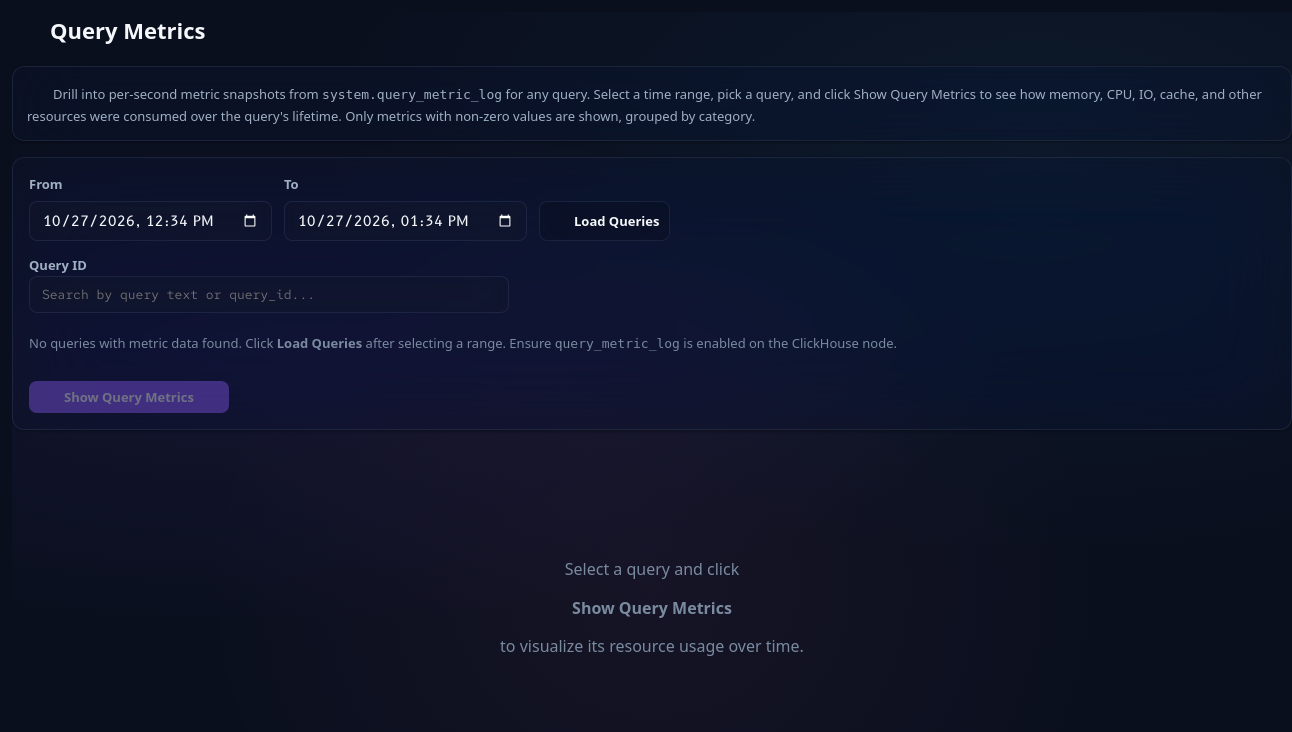
Test: QueryMetrics Component › shows range validation error when invalid
The image size is (1292, 732).
Replace the text in the 1st field with "2026-07-17T11:00": (150, 221) [29, 201, 272, 241]
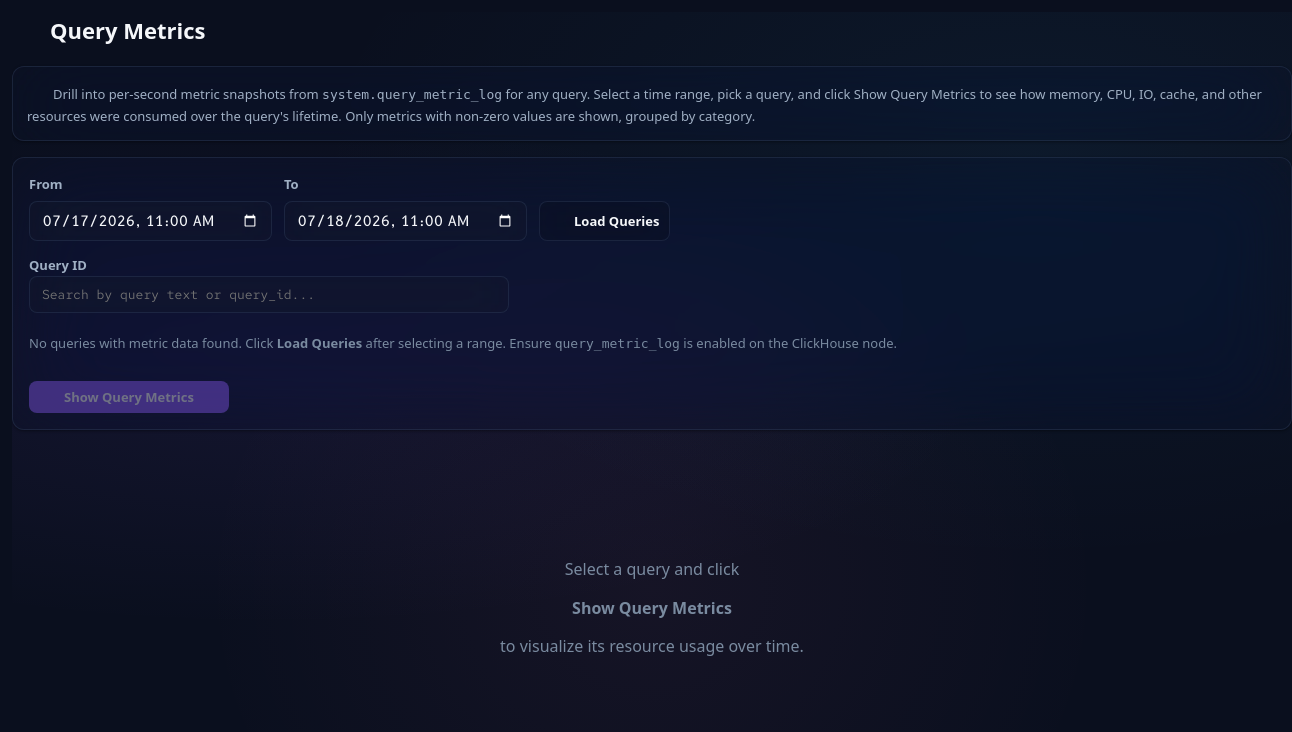
Replace the text in the 2nd field with "2026-07-16T10:00": (406, 221) [284, 201, 527, 241]
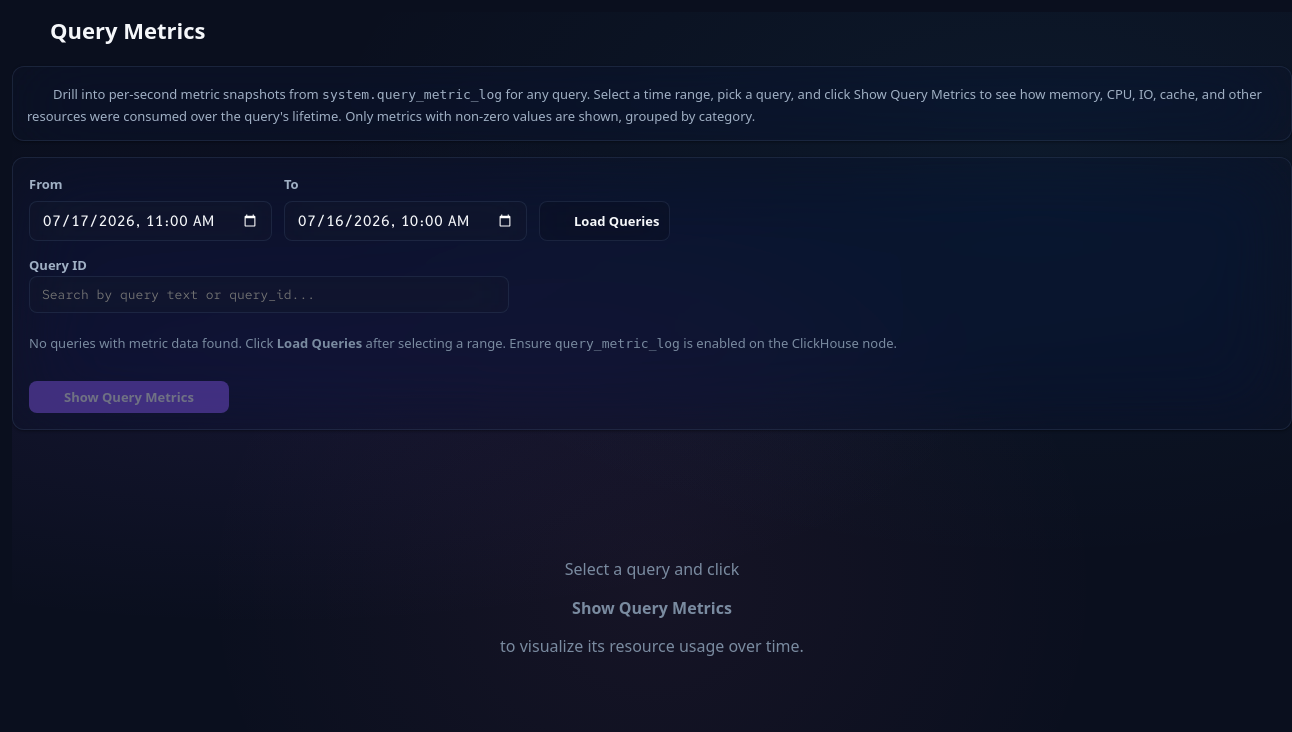
Click the button "Load Queries": (605, 221) [539, 201, 670, 241]
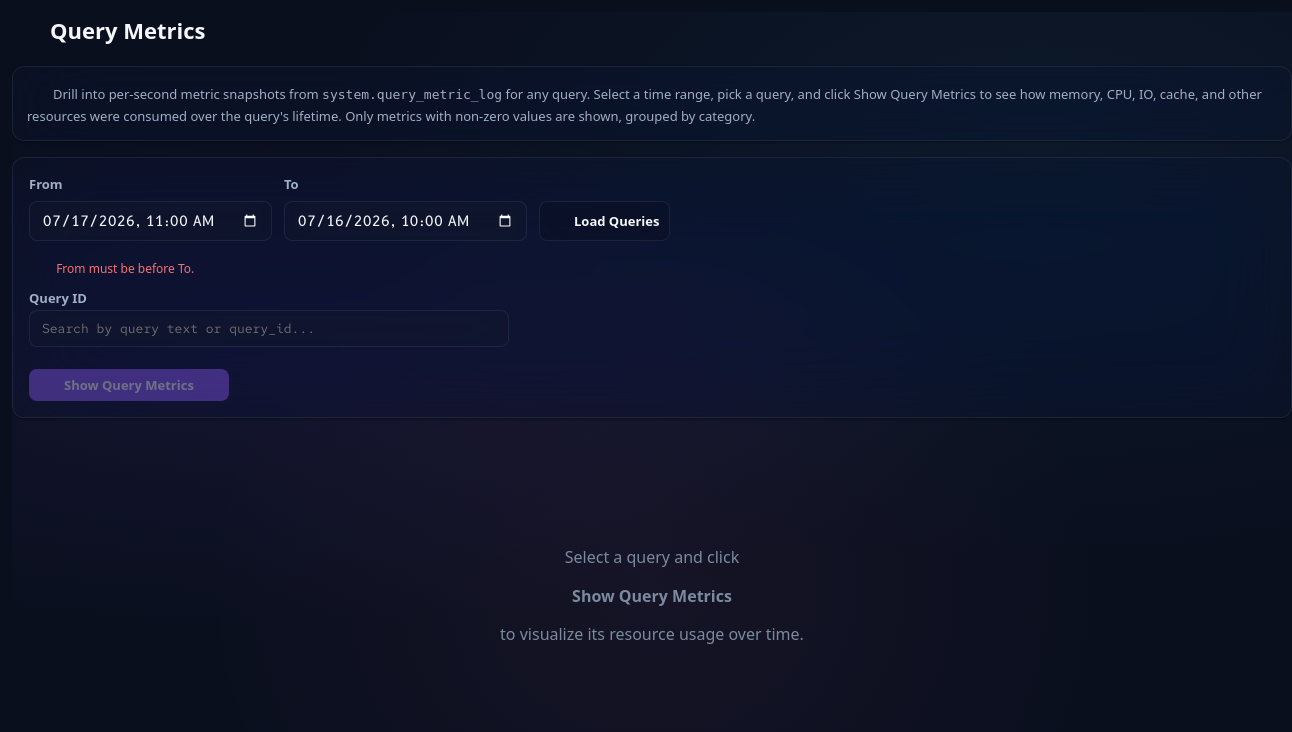
Now the text "From must be before To." is shown, box [29, 255, 194, 276]
